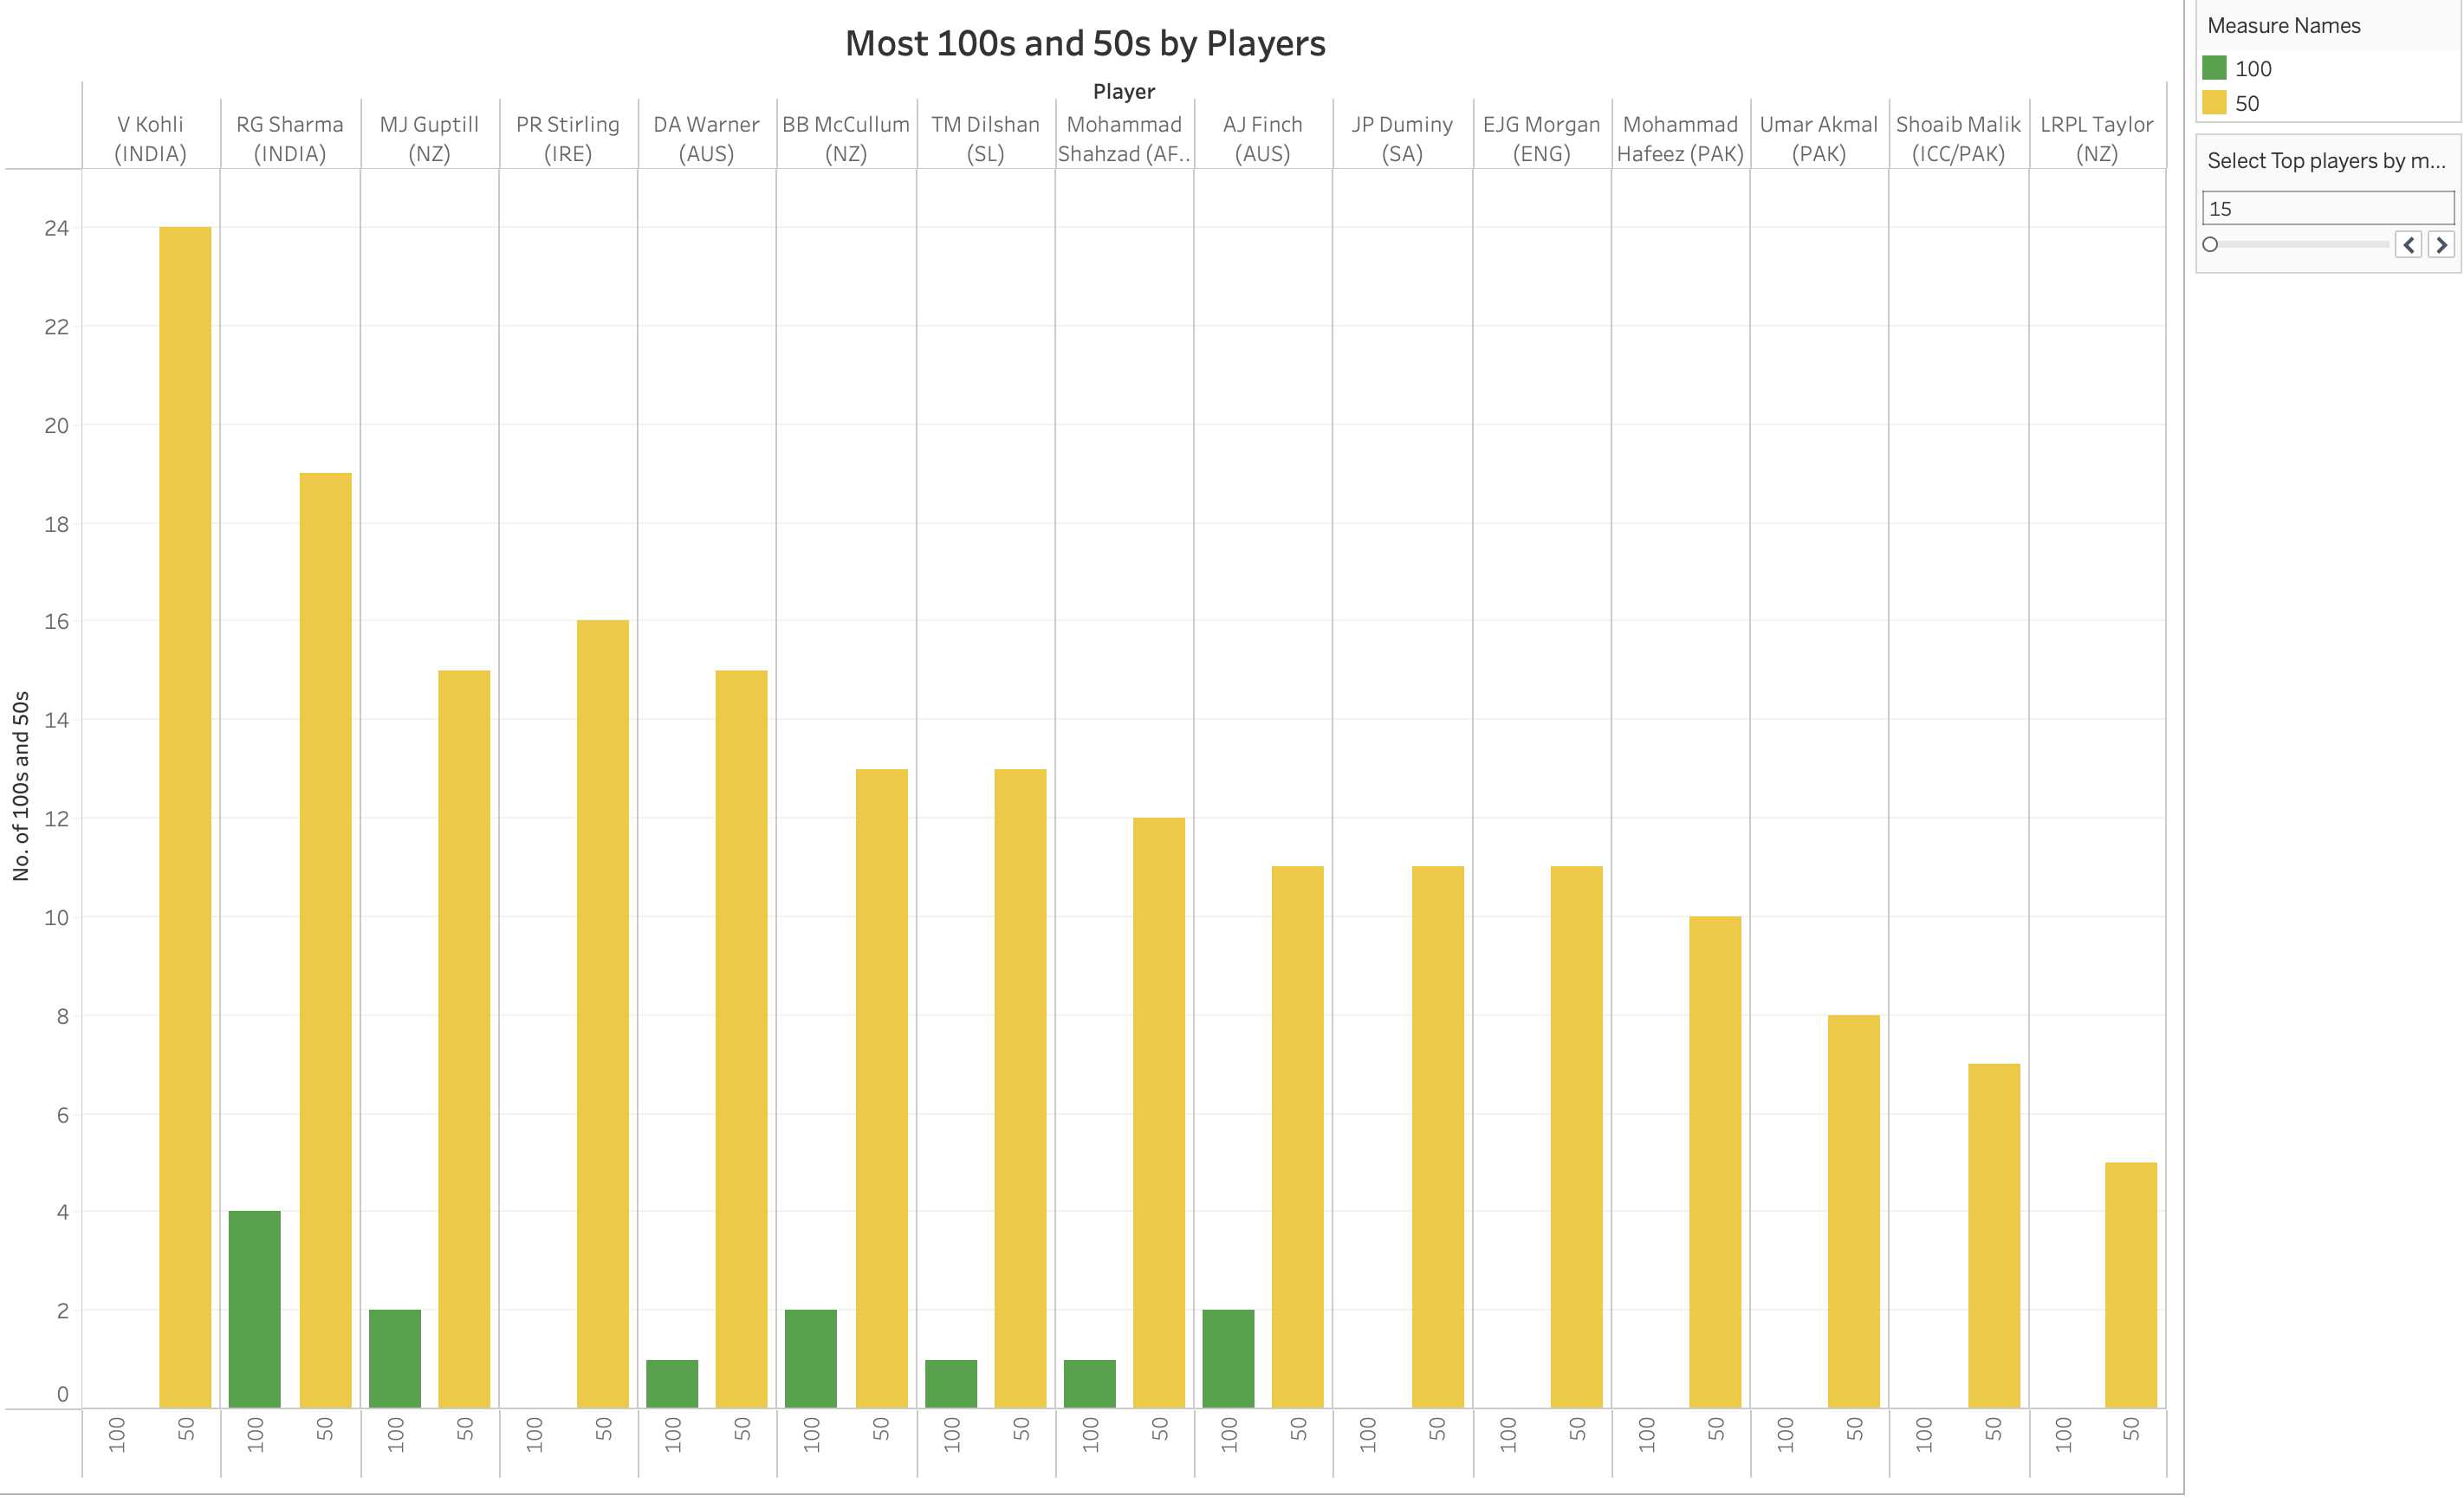

This screenshot's page, from the dashboard's own definition file:
{"tool":"tableau","page":{"name":"Insight 2","canvas":[1000,800],"ordinal":1},"visuals":[{"type":"worksheet","title":"Most 100 and 50","mark":"Automatic","cols":["Player"],"box":[8,8,844,784]},{"type":"text","box":[852,8,140,592]},{"type":"legend","title":"Most 100 and 50","param":"[federated.1d1vdhb0kooepm1acbi5z0xqp1hr].[:Measure Names]","box":[669,124,140,58]}]}

Visuals, with their boxes on the page's 1000x800 design canvas (x1, y1, x2, y2). These are canvas units, not pixel positions in the 2464x1502 screenshot, which may show the page scaled, cropped or inside an application window:
"Most 100 and 50" worksheet: left=8, top=8, right=852, bottom=792
text: left=852, top=8, right=992, bottom=600
"Most 100 and 50" legend: left=669, top=124, right=809, bottom=182
